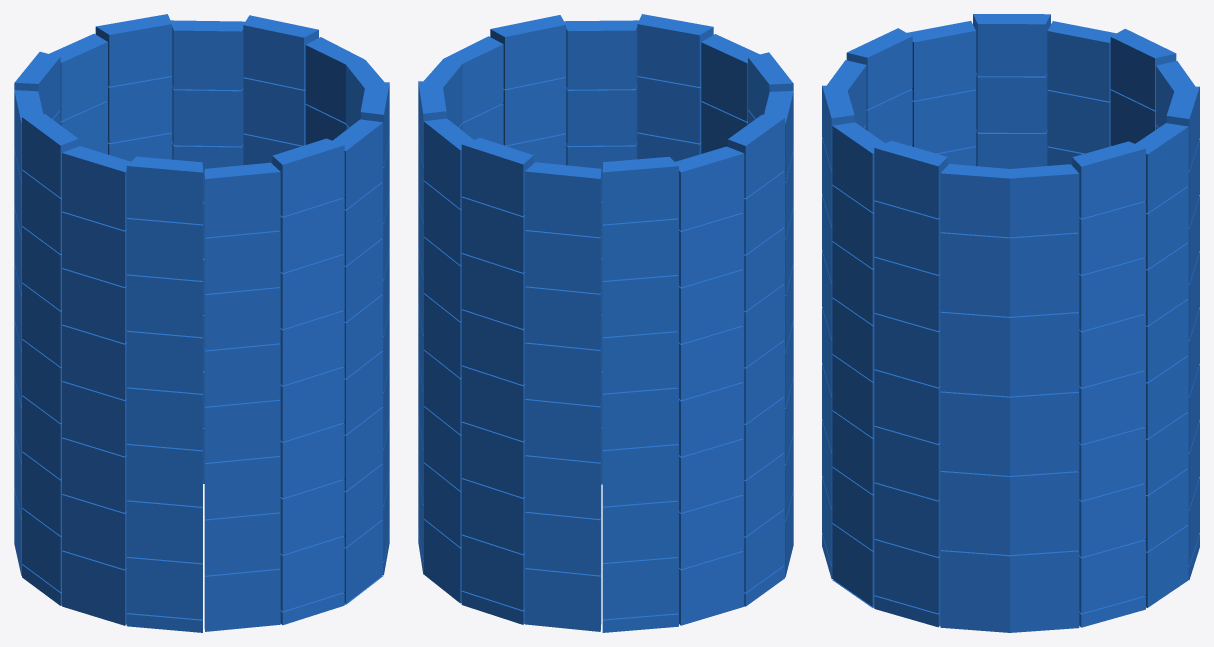
The model's file is kula za rulet.fbx.
3 views of the same model, side by side, from view 1: azimuth 30°, elevation 25°; view 2: azimuth 150°, elevation 25°; view 3: azimuth 270°, elevation 25° (orthographic).
Visible parts, largest first — view 1: Wall.262, Wall.330, Wall.270, Wall.279, Wall.347, Wall.273, Wall.271, Wall.274, Wall.276, Wall.275, Wall.263, Wall.267 (+55 smaller); view 2: Wall.313, Wall.244, Wall.304, Wall.296, Wall.347, Wall.318, Wall.308, Wall.309, Wall.305, Wall.311, Wall.320, Wall.314 (+62 smaller); view 3: Wall.349, Wall.348, Wall.350, Wall.351, Wall.352, Wall.347, Wall.287, Wall.296, Wall.279, Wall, Wall.338, Wall.288 (+58 smaller).
Boxes of the visible parts, left/top/right/bottom form: Wall.262: left=204, top=162, right=280, bottom=237; Wall.330: left=170, top=20, right=244, bottom=90; Wall.270: left=126, top=156, right=202, bottom=224; Wall.279: left=62, top=146, right=130, bottom=230; Wall.347: left=305, top=37, right=384, bottom=127; Wall.273: left=126, top=331, right=202, bottom=393; Wall.271: left=126, top=218, right=202, bottom=280; Wall.274: left=126, top=387, right=202, bottom=450; Wall.276: left=126, top=500, right=202, bottom=563; Wall.275: left=126, top=444, right=202, bottom=506; Wall.263: left=204, top=230, right=280, bottom=293; Wall.267: left=204, top=456, right=280, bottom=519; Wall.313: left=525, top=162, right=601, bottom=237; Wall.244: left=564, top=20, right=638, bottom=89; Wall.304: left=602, top=156, right=678, bottom=224; Wall.296: left=675, top=146, right=744, bottom=230; Wall.347: left=424, top=36, right=503, bottom=127; Wall.318: left=525, top=455, right=601, bottom=519; Wall.308: left=602, top=387, right=678, bottom=449; Wall.309: left=602, top=444, right=678, bottom=506; Wall.305: left=602, top=218, right=678, bottom=280; Wall.311: left=602, top=557, right=678, bottom=619; Wall.320: left=525, top=568, right=601, bottom=631; Wall.314: left=525, top=230, right=601, bottom=293; Wall.349: left=940, top=311, right=1079, bottom=396; Wall.348: left=940, top=232, right=1079, bottom=316; Wall.350: left=940, top=391, right=1079, bottom=475; Wall.351: left=940, top=471, right=1079, bottom=555; Wall.352: left=940, top=550, right=1079, bottom=632; Wall.347: left=940, top=164, right=1079, bottom=237; Wall.287: left=973, top=14, right=1050, bottom=76; Wall.296: left=1047, top=21, right=1116, bottom=101; Wall.279: left=907, top=21, right=975, bottom=100; Wall: left=874, top=141, right=947, bottom=218; Wall.338: left=1072, top=141, right=1145, bottom=218; Wall.288: left=976, top=73, right=1047, bottom=132.
Bounding box in the file's own units: 1453 × 1977 × 1468.
